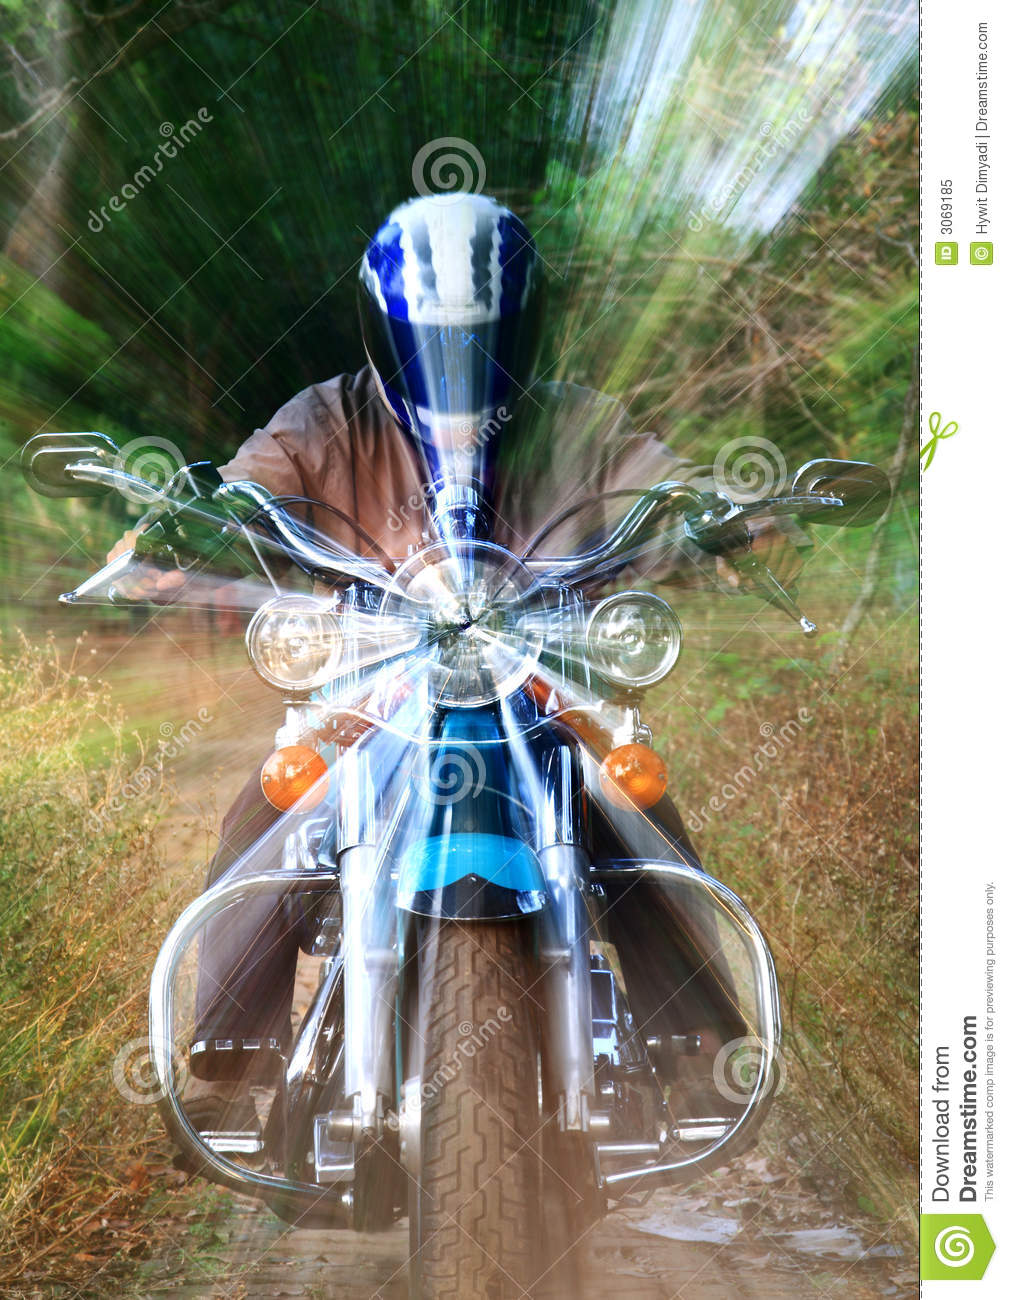helmet: (344, 213, 561, 437)
